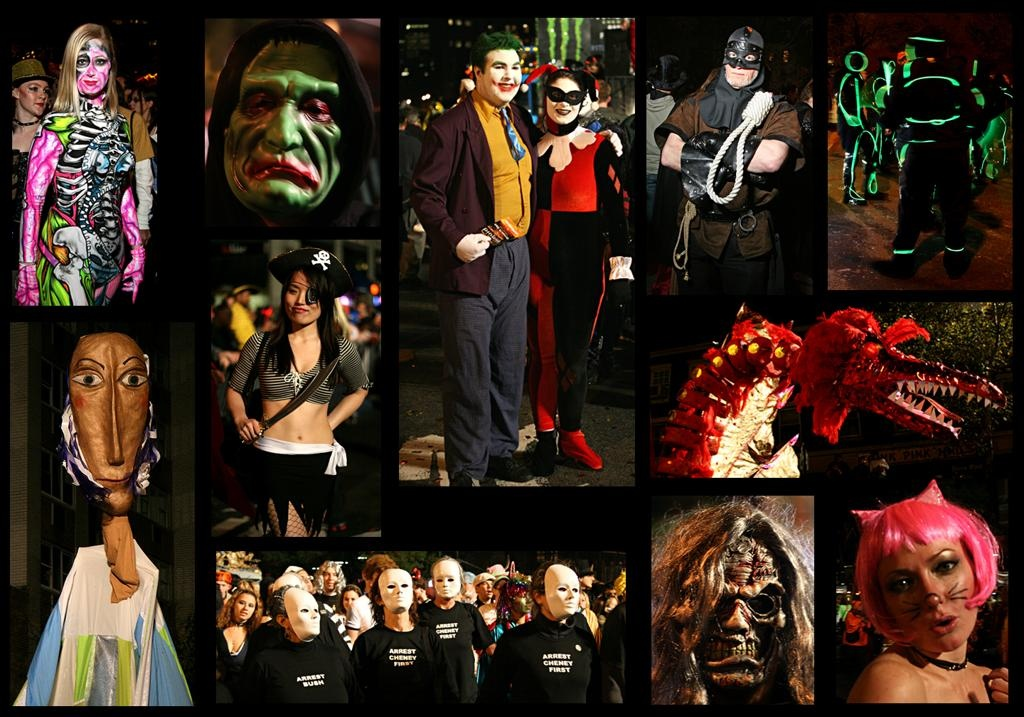human_face: (224, 36, 340, 210), (878, 533, 978, 651), (282, 270, 324, 325), (540, 564, 580, 616), (75, 34, 109, 94), (483, 50, 521, 102), (544, 78, 580, 124), (283, 592, 319, 638), (724, 43, 760, 87), (18, 76, 46, 116), (432, 562, 462, 598), (271, 576, 301, 610), (380, 574, 408, 610), (234, 591, 256, 621), (513, 585, 531, 613), (128, 92, 146, 116), (342, 590, 360, 610), (322, 568, 338, 590), (579, 569, 593, 587), (462, 578, 476, 595), (214, 579, 228, 595), (480, 580, 494, 596), (576, 594, 588, 612), (410, 567, 422, 581), (606, 594, 618, 608), (206, 303, 214, 321), (240, 288, 248, 304)
